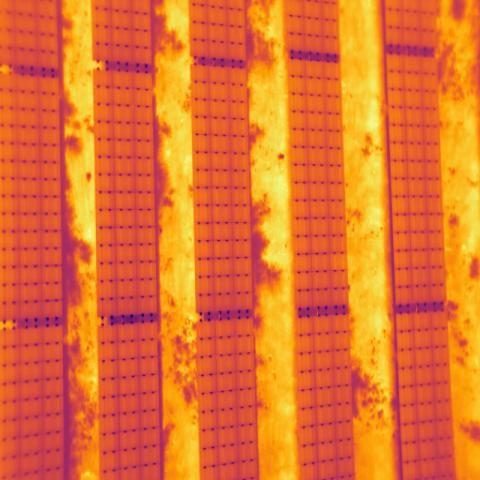fault: (330, 253, 347, 270)
